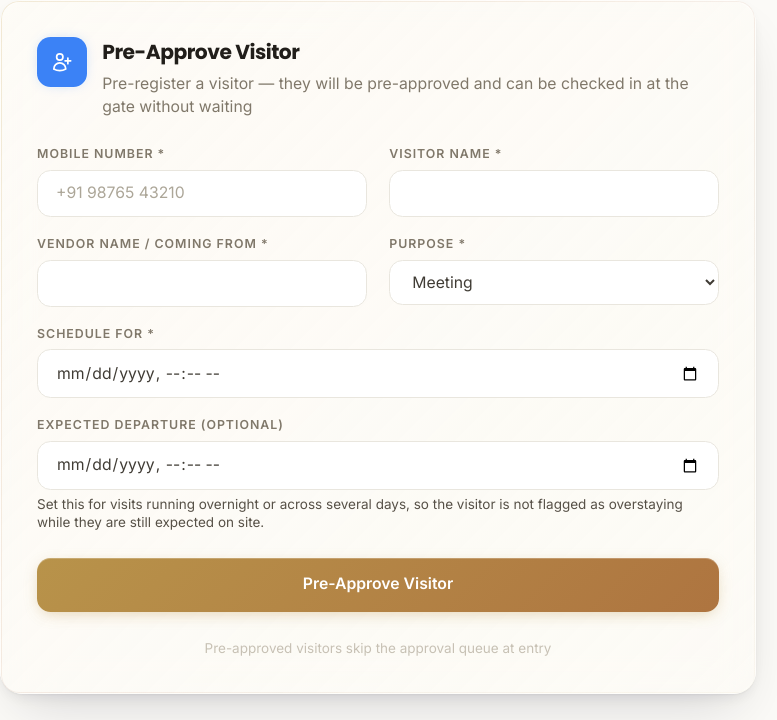
it: PreApproveForm validation › shows error for invalid phone number
The width and height of the screenshot is (777, 720).
Type "123" into the field with placeholder "+91 98765 43210" at (202, 193), box [37, 170, 367, 217]
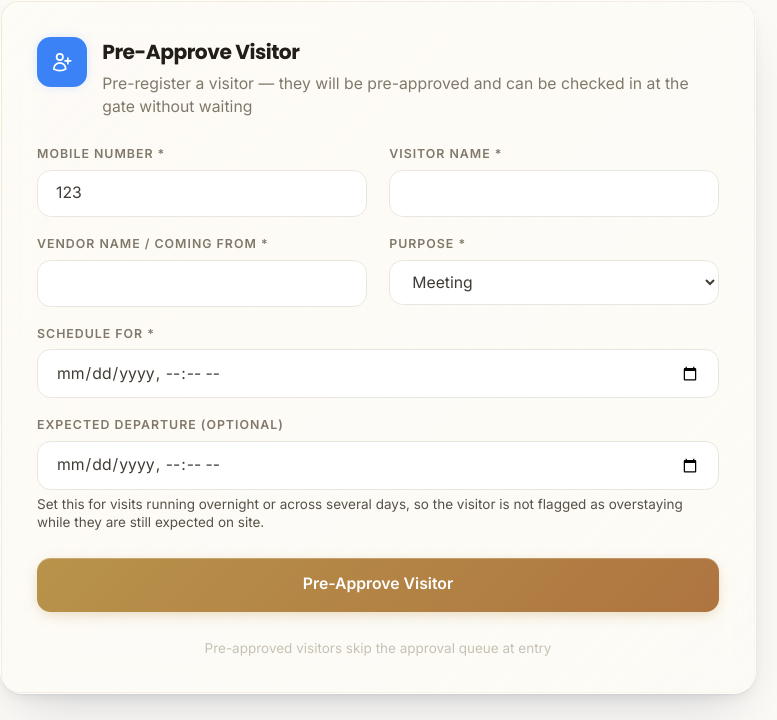
Type "Test Visitor" into the field below "Visitor Name *" at (554, 193), box [389, 170, 719, 217]
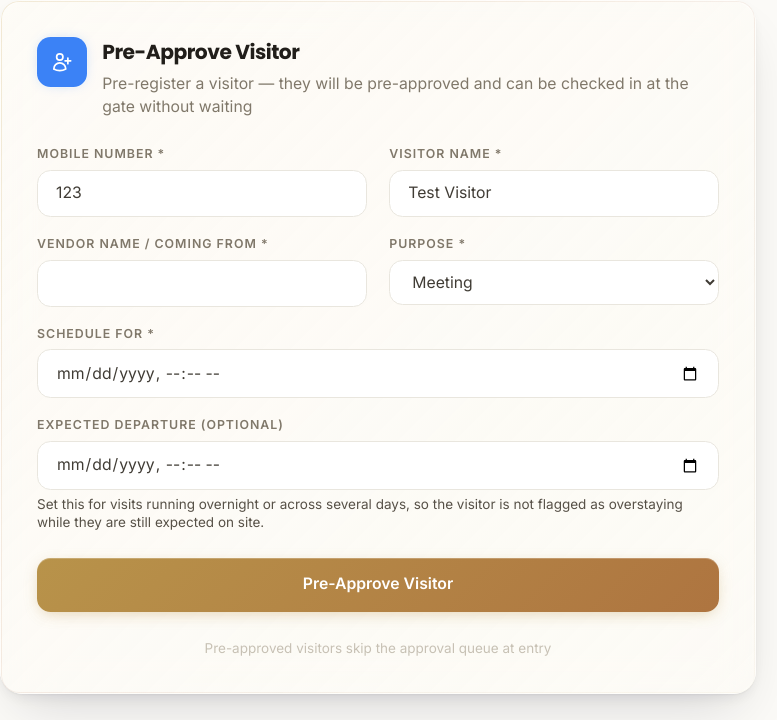
Type "Test Corp" into the field below "Vendor Name / Coming from *" at (202, 283), box [37, 260, 367, 306]
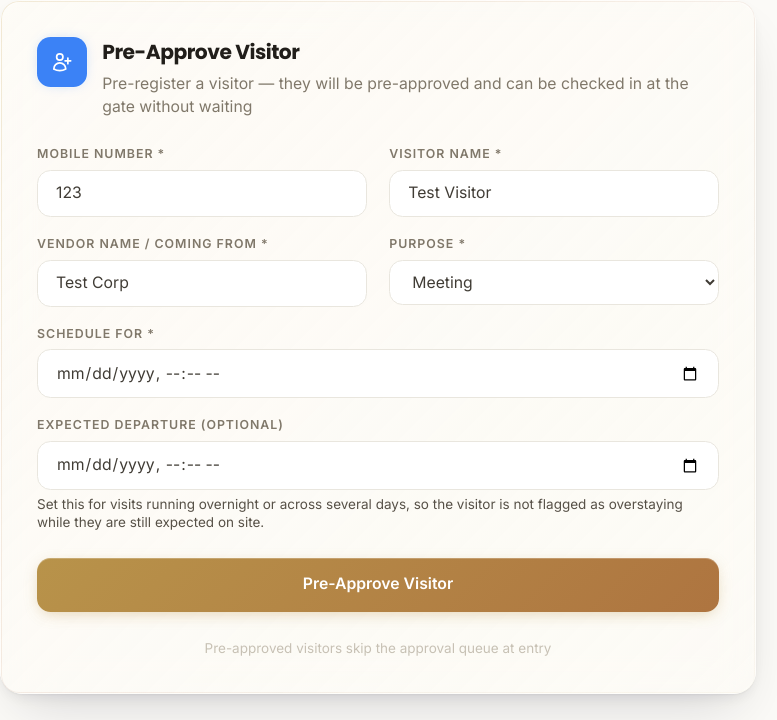
Type "2026-08-05T10:00" into the field labelled "Schedule for *" at (378, 374), box [37, 349, 719, 398]
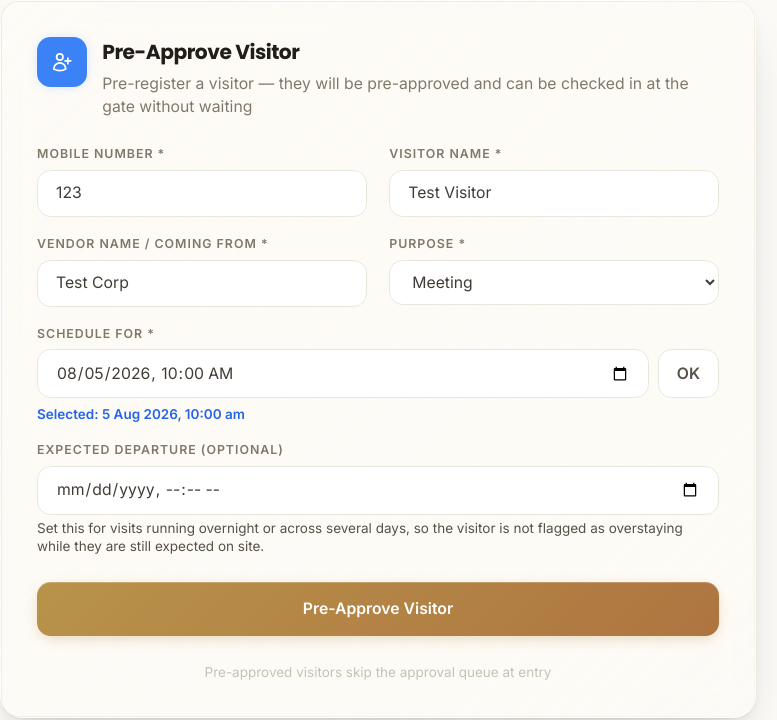
Click the button "Pre-Approve Visitor" at (378, 609), box [37, 582, 719, 636]
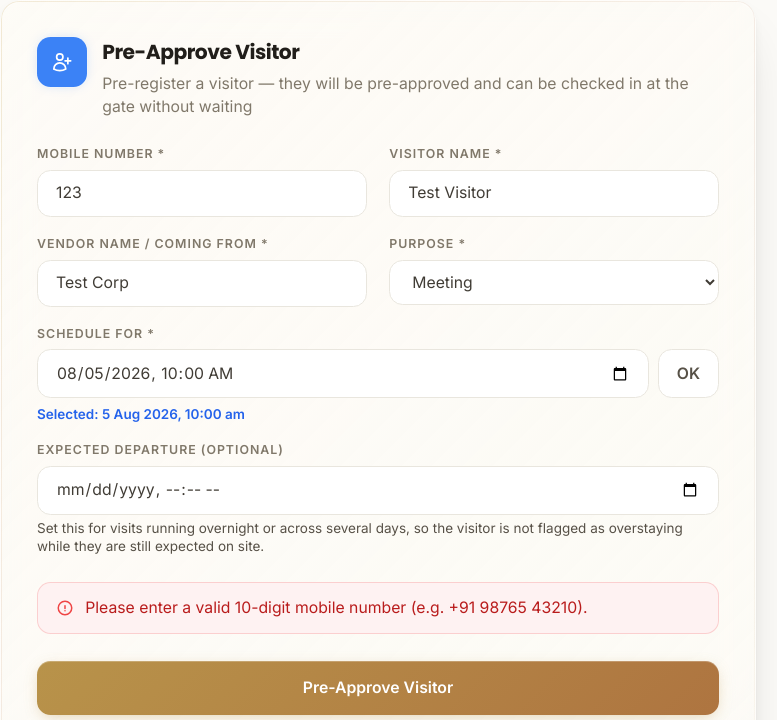
Check: the text "valid 10-digit" is shown, box [85, 598, 588, 617]
